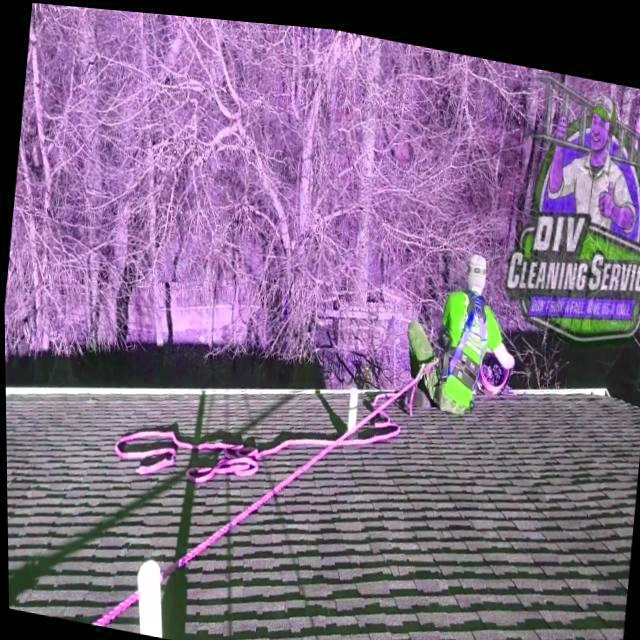safety belt: (436, 295, 497, 419)
